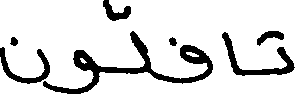ا: (225, 30, 240, 76)
ت: (253, 27, 293, 75)
ف: (168, 36, 213, 84)
ل: (128, 3, 152, 76)
ن: (0, 35, 50, 91)
و: (70, 48, 100, 92)
